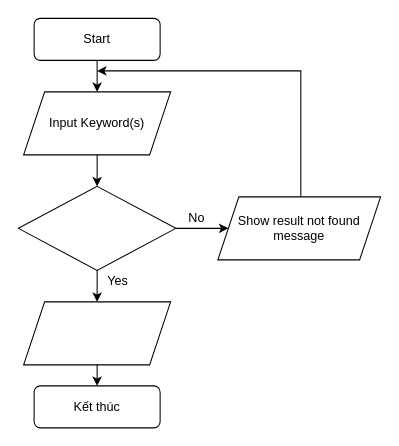
Image size: 399x446. Some labels were removed from this diagram. Each missing label, with the box of its shape:
Does the data exist?: (17, 185, 176, 270)
Show list of search results: (23, 301, 171, 365)
